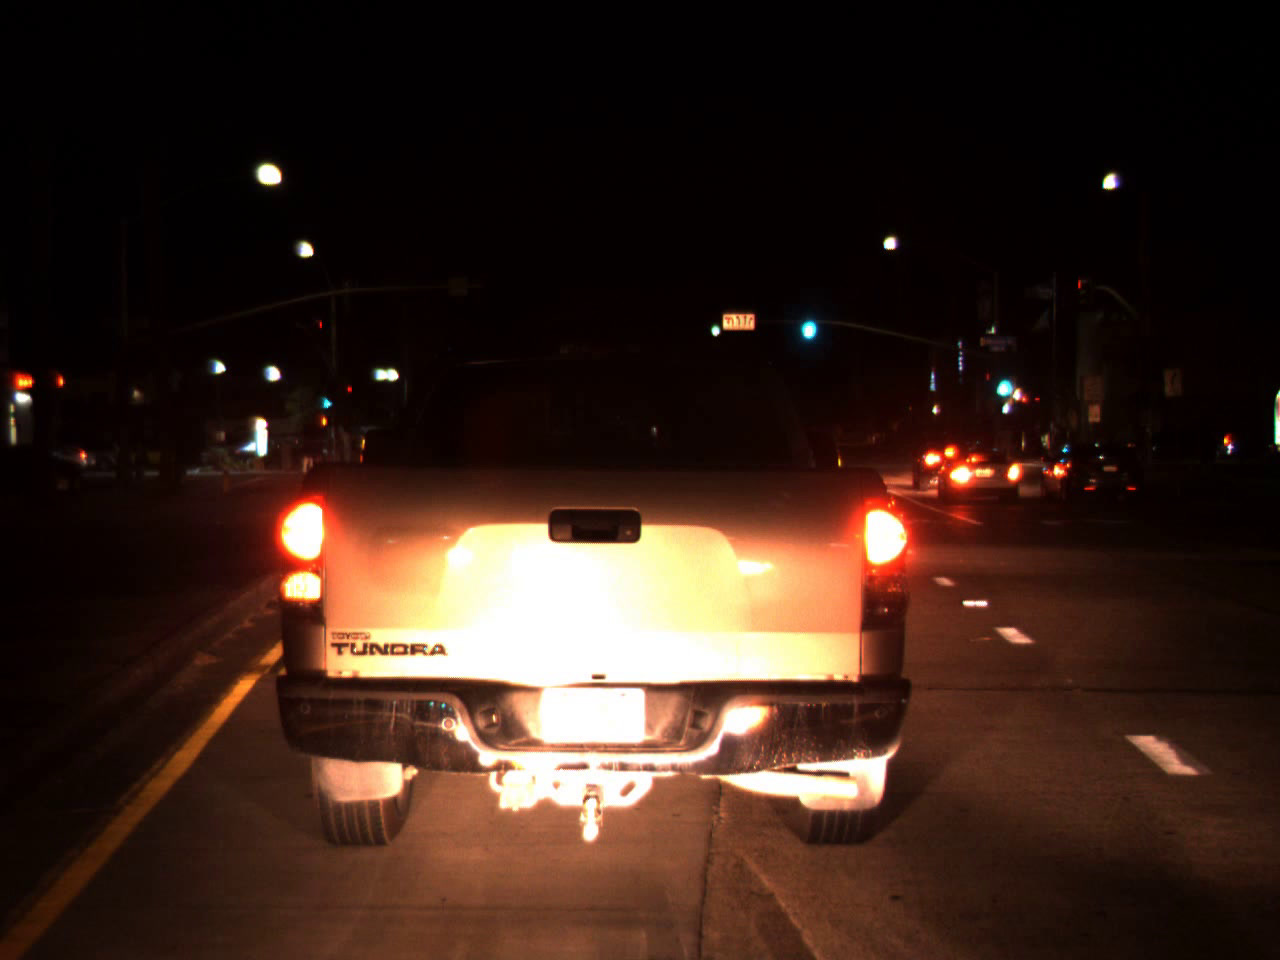go: (795, 301, 820, 343), (991, 362, 1016, 401), (708, 312, 720, 339), (321, 388, 334, 412)
